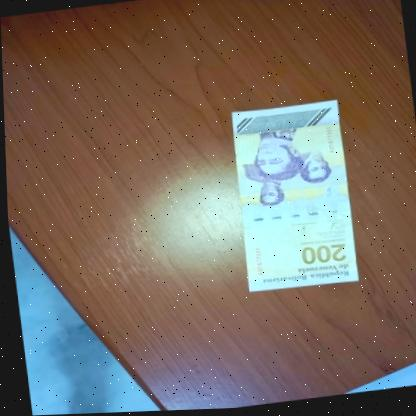two_hundred-front-vef: (225, 100, 358, 297)
